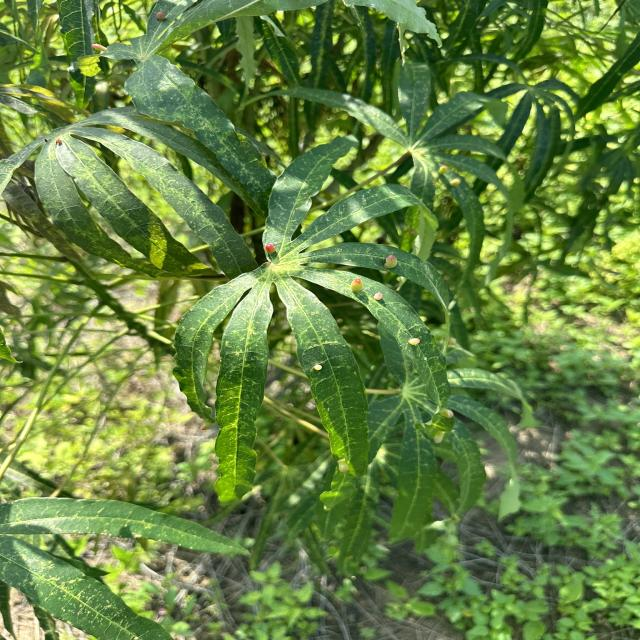Mosca: (341, 269, 390, 314), (432, 403, 470, 452), (297, 351, 338, 381), (388, 332, 430, 359), (386, 247, 413, 280), (251, 233, 282, 260), (436, 287, 460, 318)
